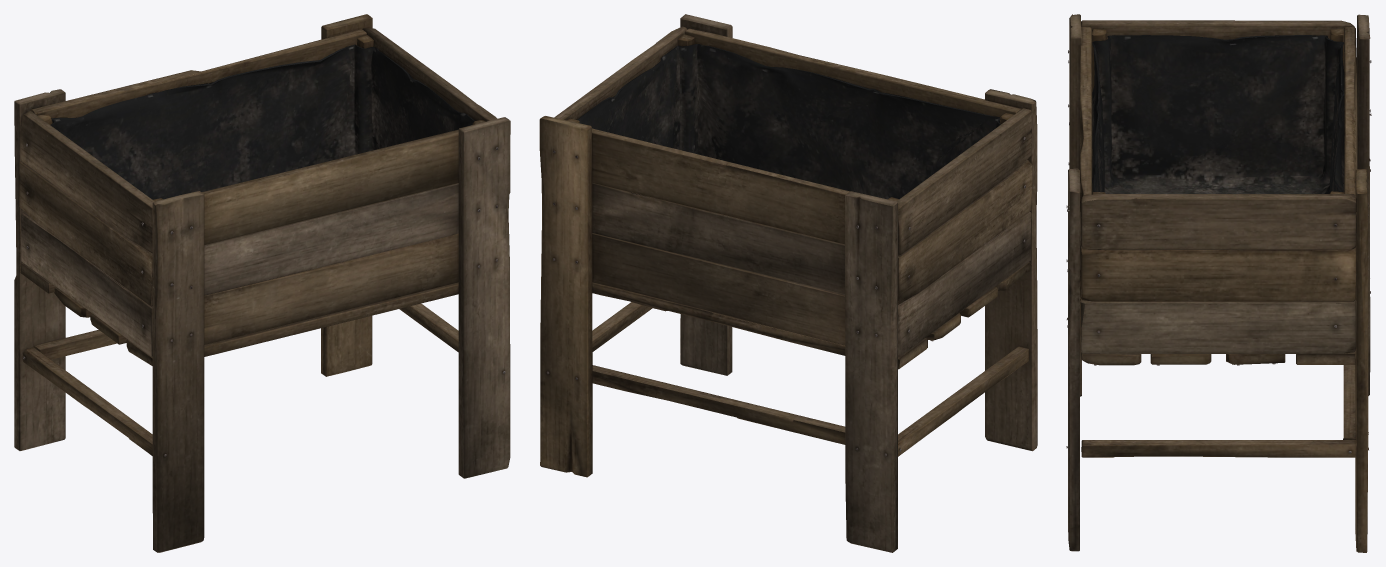
File: planter_box_03_1k.gltf
3 renders of one model, left to right at view 1: azimuth 30°, elevation 25°; view 2: azimuth 150°, elevation 25°; view 3: azimuth 270°, elevation 25°, orthographic. The views are drawn at different scales.
Visible parts, largest first — view 1: planter_box_03; view 2: planter_box_03; view 3: planter_box_03.
Part boxes in pixels (x1=…): planter_box_03: x1=14, y1=14, x2=510, y2=552; planter_box_03: x1=539, y1=14, x2=1037, y2=552; planter_box_03: x1=1066, y1=14, x2=1371, y2=552.
Bounding box in the file's own units: 0.9146 × 0.8555 × 0.6557.
1 material, 1 textured.
